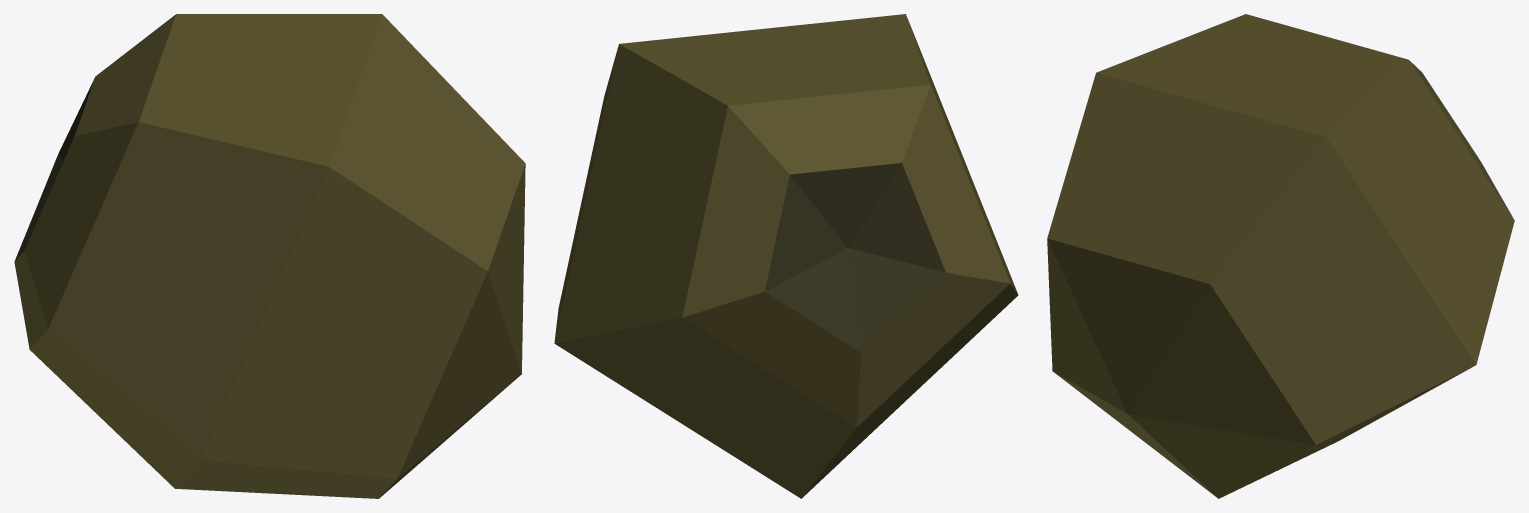
3 views of the same model, side by side, from view 1: azimuth 30°, elevation 25°; view 2: azimuth 150°, elevation 25°; view 3: azimuth 270°, elevation 25° (orthographic). The views are drawn at different scales.
Visible parts, largest first — view 1: 葱_1__pSphere2; view 2: 葱_1__pSphere2; view 3: 葱_1__pSphere2.
Boxes of the visible parts, <box> form: 葱_1__pSphere2: <box>14,14,525,498</box>; 葱_1__pSphere2: <box>554,14,1018,498</box>; 葱_1__pSphere2: <box>1047,14,1514,498</box>.
Size of what is drawn, in the model's own units: 0.5405 by 0.5266 by 0.496.
